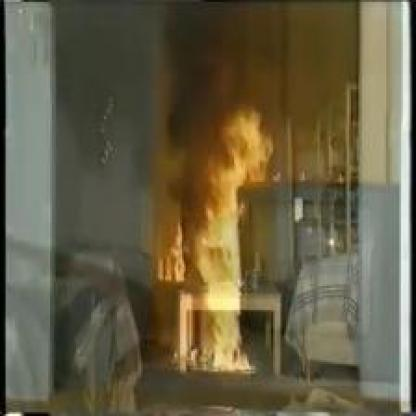fire: (156, 115, 269, 373)
smoke: (159, 0, 251, 222)
